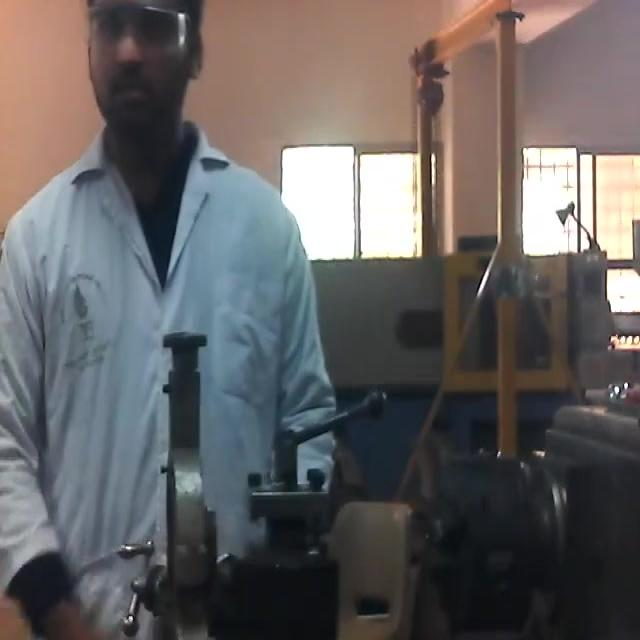googles: (1, 122, 340, 637), (84, 2, 190, 60)
